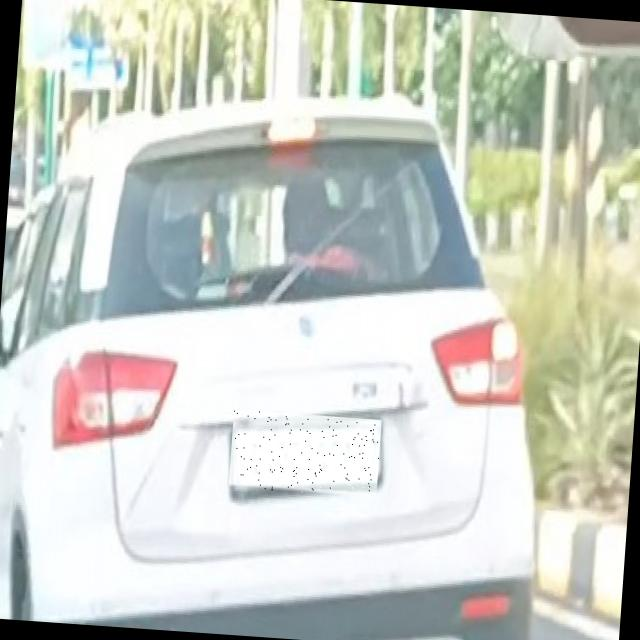Plate: (229, 411, 382, 499)
